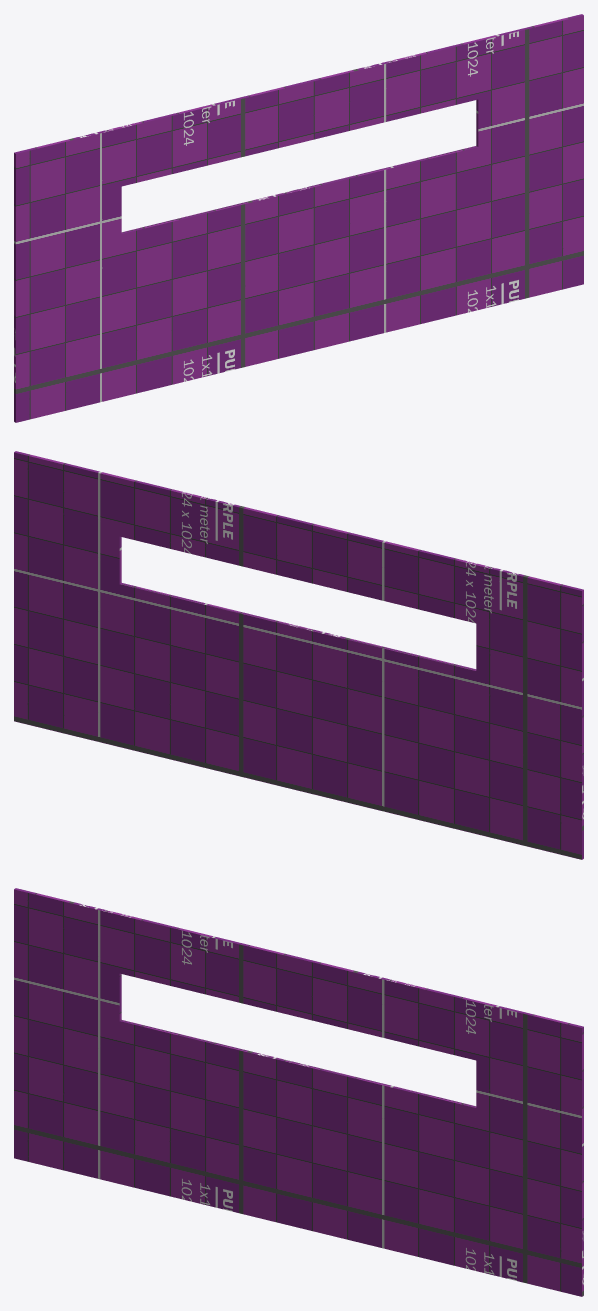
The model's file is door.fbx.
3 renders of one model, top to bottom at view 1: azimuth 30°, elevation 25°; view 2: azimuth 150°, elevation 25°; view 3: azimuth 330°, elevation 25°, orthographic.
Visible parts, largest first — view 1: door; view 2: door; view 3: door.
Part boxes in pixels (box(x1,y1,x2,y2)): door: box(14, 14, 583, 422); door: box(14, 451, 583, 859); door: box(14, 888, 583, 1296).
Size of the model in its own units: 573 by 259 by 3.31.
1 material, 1 textured.
